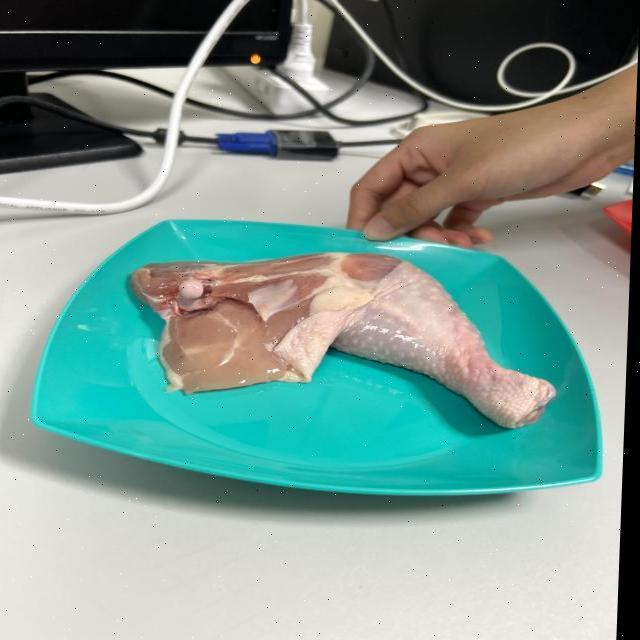quater: (130, 248, 562, 436)
